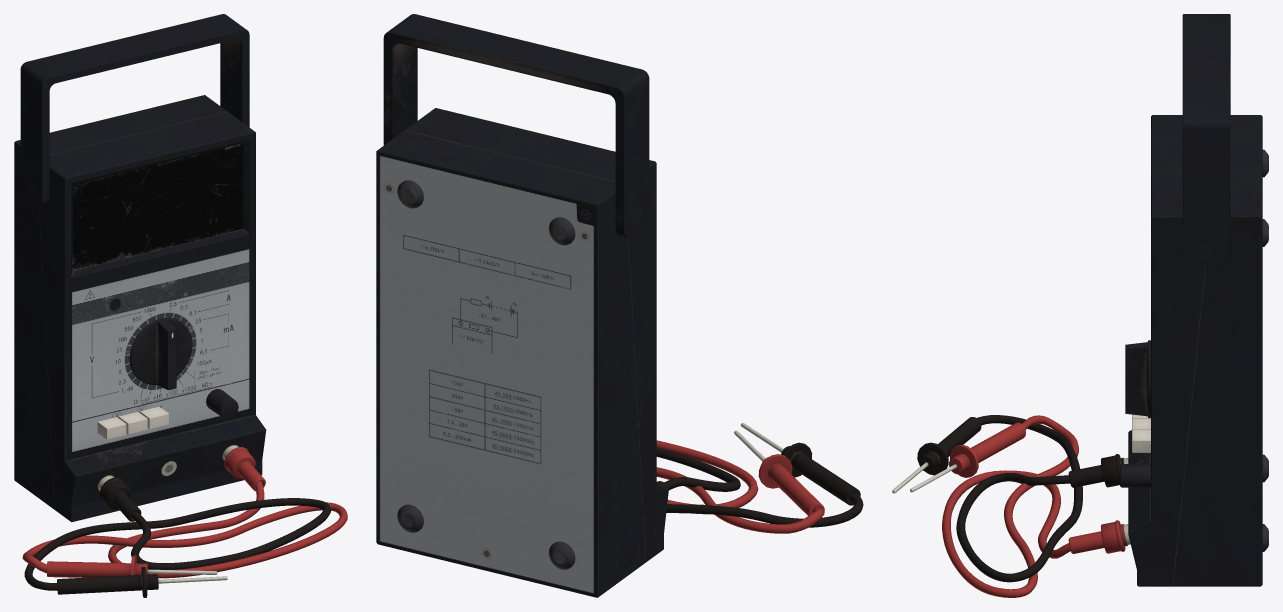
The model's file is retro-multimeter.glb.
The picture shows the model from 3 angles, left to right: view 1: azimuth 30°, elevation 25°; view 2: azimuth 150°, elevation 25°; view 3: azimuth 270°, elevation 25°; orthographic projection. The views are drawn at different scales.
Visible parts, largest first — view 1: retro_multimeter_LOD0, retro_multimeter_cables_LOD0, retro_multimeter_handle_LOD0, retro_multimeter_dial_LOD0, retro_multimeter_buttons_LOD0, retro_multimeter_knob_LOD0; view 2: retro_multimeter_LOD0, retro_multimeter_handle_LOD0, retro_multimeter_cables_LOD0; view 3: retro_multimeter_LOD0, retro_multimeter_cables_LOD0, retro_multimeter_handle_LOD0, retro_multimeter_dial_LOD0, retro_multimeter_knob_LOD0, retro_multimeter_buttons_LOD0.
Part boxes in pixels (x1,y1,x2,y2): retro_multimeter_LOD0: (14,95,266,522); retro_multimeter_cables_LOD0: (22,445,347,597); retro_multimeter_handle_LOD0: (20,14,249,207); retro_multimeter_dial_LOD0: (129,318,192,390); retro_multimeter_buttons_LOD0: (97,406,168,439); retro_multimeter_knob_LOD0: (206,389,238,418); retro_multimeter_LOD0: (376,108,668,597); retro_multimeter_handle_LOD0: (383,14,649,238); retro_multimeter_cables_LOD0: (656,422,863,533); retro_multimeter_LOD0: (1128,115,1268,586); retro_multimeter_cables_LOD0: (892,415,1130,597); retro_multimeter_handle_LOD0: (1182,14,1230,266); retro_multimeter_dial_LOD0: (1125,340,1150,418); retro_multimeter_knob_LOD0: (1120,463,1150,487); retro_multimeter_buttons_LOD0: (1132,414,1150,452).
Bounding box in the file's own units: 0.216 × 0.2786 × 0.2026.
Materials: 2 (2 with a texture image).
